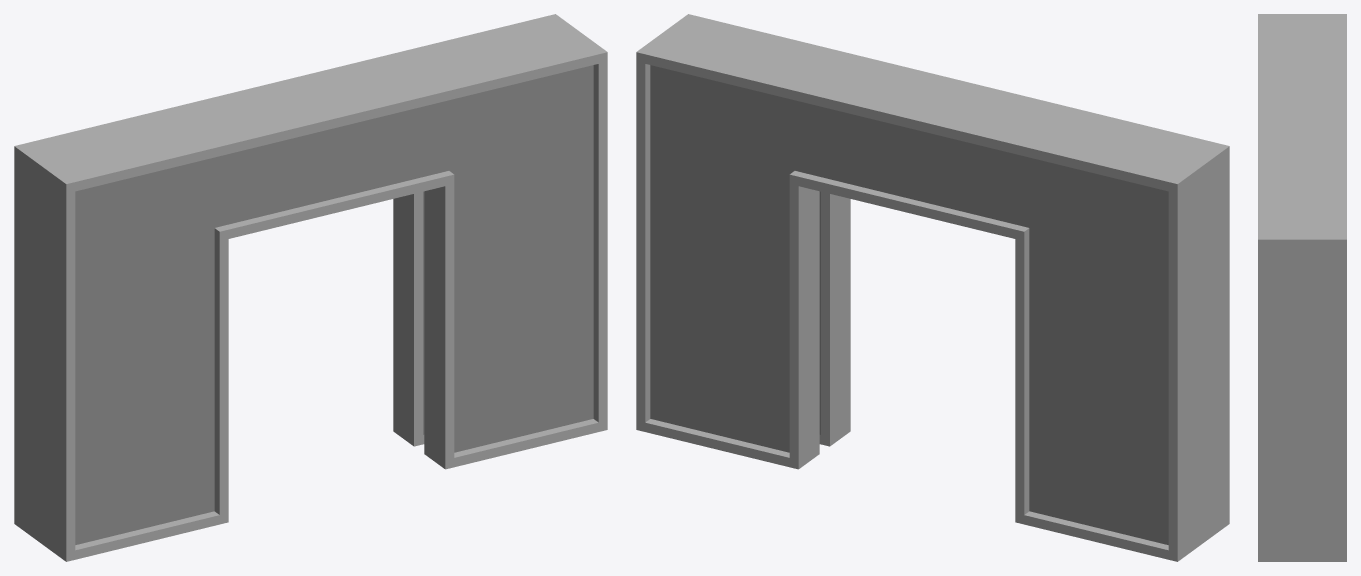
File: Security Doorway.obj
3 views of the same model, side by side, from view 1: azimuth 30°, elevation 25°; view 2: azimuth 150°, elevation 25°; view 3: azimuth 270°, elevation 25° (orthographic). The views are drawn at different scales.
Size of the model in its own units: 60 by 40 by 10.
Materials: 1 (1 with a texture image).
